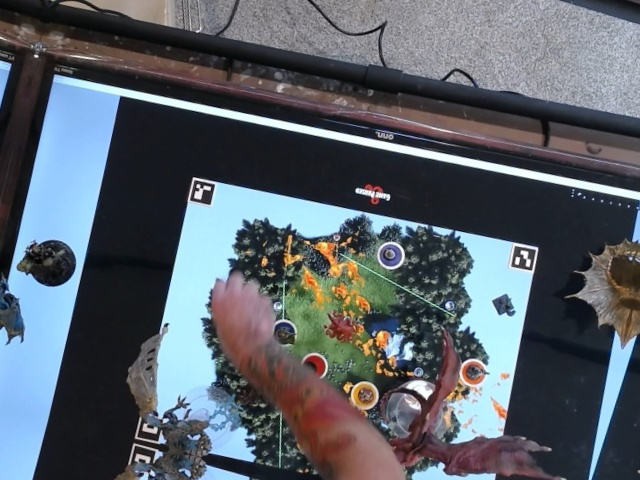blue: (261, 309, 303, 351)
orange: (452, 351, 496, 395)
red: (292, 346, 335, 384)
violet: (370, 235, 410, 276)
yellow: (340, 373, 385, 415)
